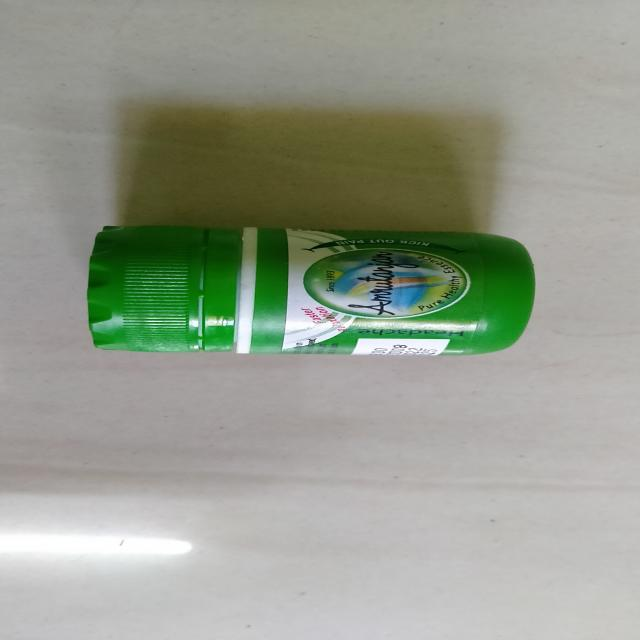eucalyptus oil: (50, 213, 533, 367)
